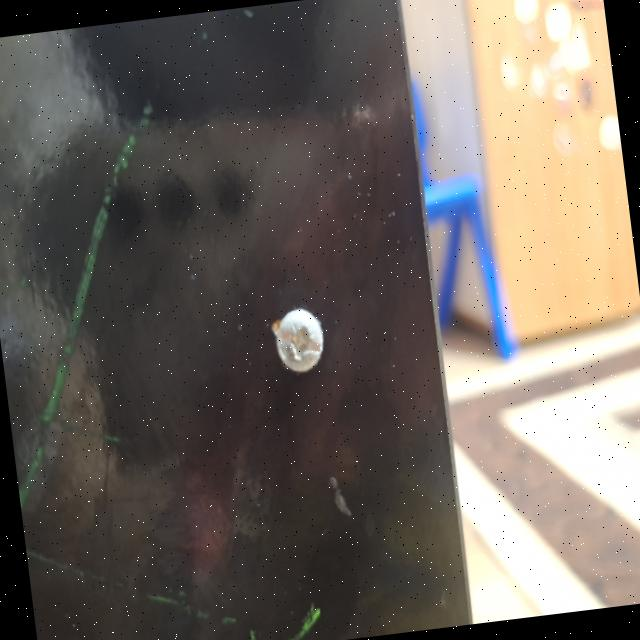Pozidriv: (271, 308, 331, 380)
